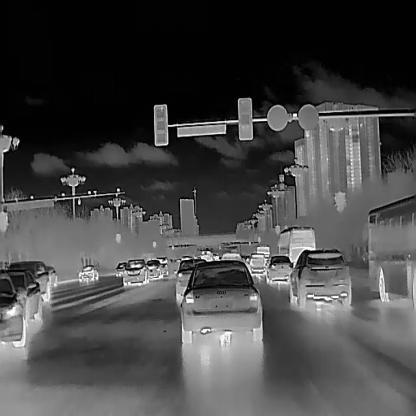car: (180, 258, 263, 342), (362, 192, 414, 308), (287, 246, 351, 307), (0, 267, 28, 347), (1, 268, 42, 320), (8, 259, 52, 302), (276, 224, 316, 266), (174, 257, 208, 300), (264, 253, 292, 282), (122, 258, 149, 285), (245, 250, 267, 274), (77, 263, 98, 281), (146, 258, 163, 279), (46, 265, 59, 285), (254, 243, 270, 258), (221, 249, 241, 260), (114, 261, 127, 275), (199, 248, 212, 261)
